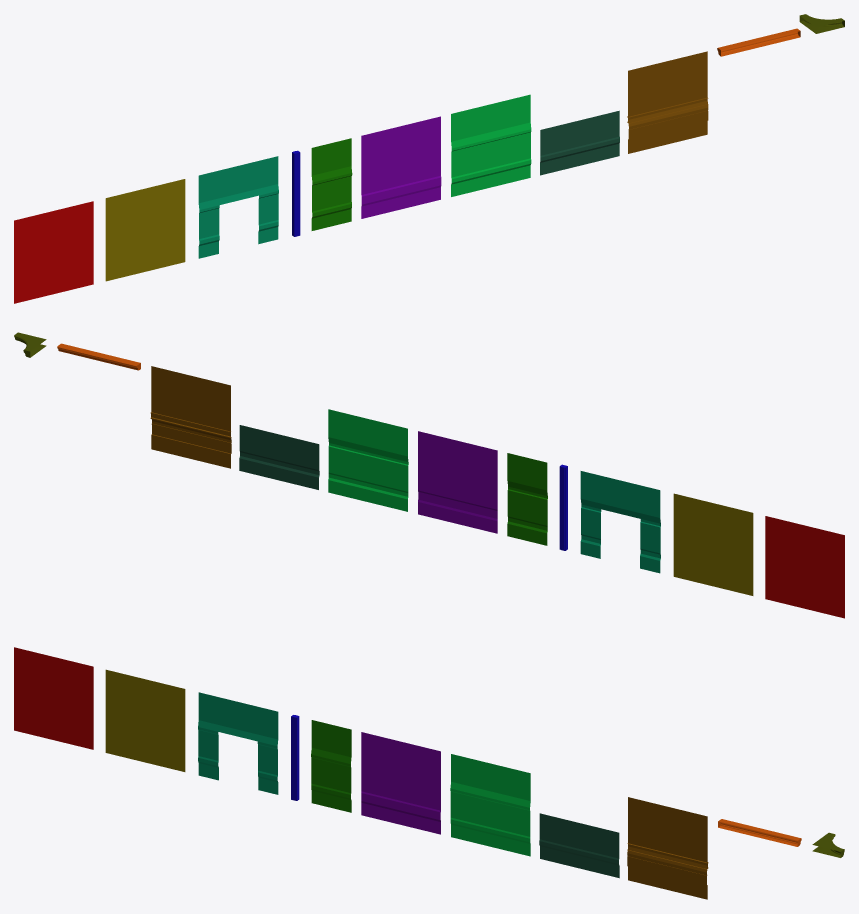
The model's file is Wall Multiset 1_Lo.FBX.
The picture shows the model from 3 angles, top to bottom: view 1: azimuth 30°, elevation 25°; view 2: azimuth 150°, elevation 25°; view 3: azimuth 330°, elevation 25°; orthographic projection.
Parts seen in each view (by area): view 1: Wall Multiset 1_Lo; view 2: Wall Multiset 1_Lo; view 3: Wall Multiset 1_Lo.
Part boxes in pixels (<box>): Wall Multiset 1_Lo: <box>14,14,844,303</box>; Wall Multiset 1_Lo: <box>14,332,844,618</box>; Wall Multiset 1_Lo: <box>14,647,844,899</box>.
Size of the model in its own units: 41.66 by 4 by 1.45.
